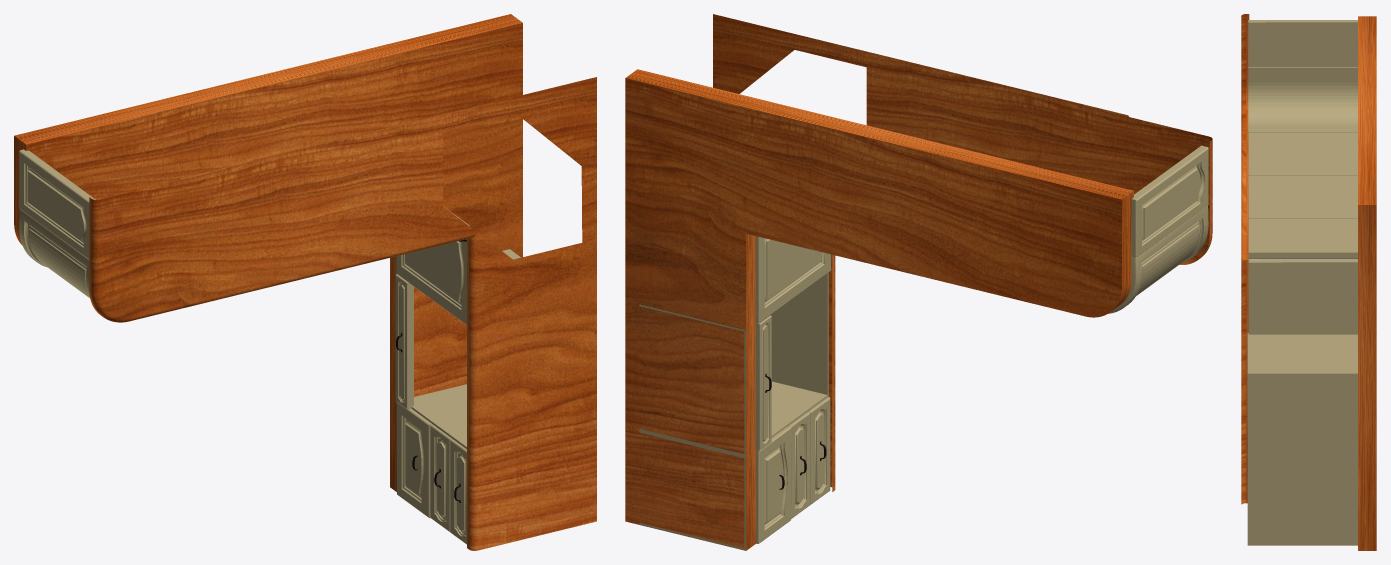
Rendered from Kitchen (copy).obj.
3 views of the same model, side by side, from view 1: azimuth 30°, elevation 25°; view 2: azimuth 150°, elevation 25°; view 3: azimuth 270°, elevation 25° (orthographic). The views are drawn at different scales.
Visible parts, largest first — view 1: Shape01, Line43, Loft31, Loft38, FBox03, Loft35, Loft33; view 2: Line43, Shape01, Loft31, FBox03, Loft38, Loft33, Loft35, FBox02; view 3: Loft31, FBox03, Line43, FBox02, Shape01.
Boxes of the visible parts, bbox=[...] form: Shape01: bbox=[89, 77, 596, 550]; Line43: bbox=[14, 14, 522, 491]; Loft31: bbox=[19, 149, 469, 518]; Loft38: bbox=[395, 274, 413, 409]; FBox03: bbox=[411, 249, 520, 448]; Loft35: bbox=[430, 424, 451, 531]; Loft33: bbox=[450, 439, 466, 544]; Line43: bbox=[625, 69, 1133, 550]; Shape01: bbox=[713, 14, 1212, 491]; Loft31: bbox=[755, 145, 1208, 543]; FBox03: bbox=[639, 273, 828, 456]; Loft38: bbox=[755, 315, 771, 450]; Loft33: bbox=[808, 397, 830, 504]; Loft35: bbox=[788, 411, 810, 518]; FBox02: bbox=[639, 396, 828, 550]; Loft31: bbox=[1248, 20, 1357, 334]; FBox03: bbox=[1247, 333, 1357, 472]; Line43: bbox=[1358, 16, 1376, 550]; FBox02: bbox=[1247, 472, 1357, 545]; Shape01: bbox=[1241, 14, 1249, 504].
Bounding box in the file's own units: 111 × 93.38 × 33.03.
Materials: 3 (1 with a texture image).
